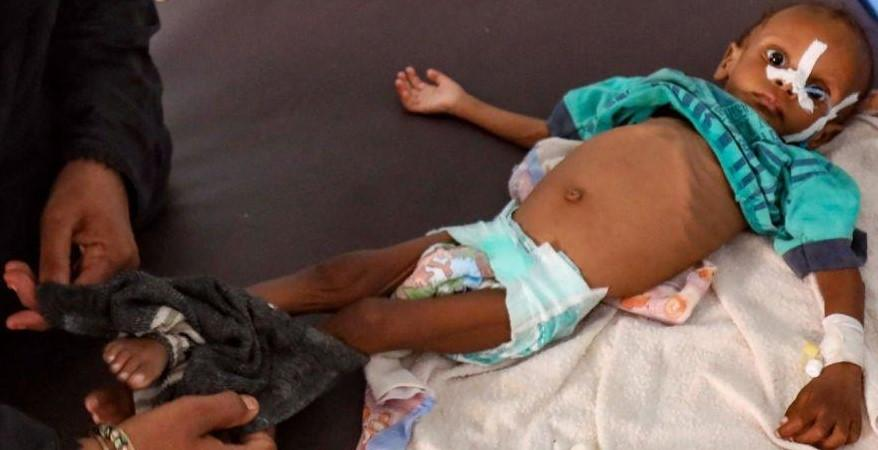Stunting: (723, 17, 878, 178)
